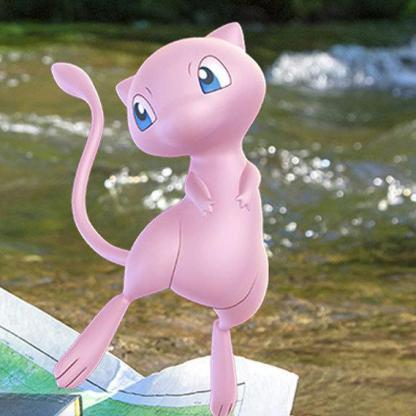Mew: (53, 61, 404, 416)
